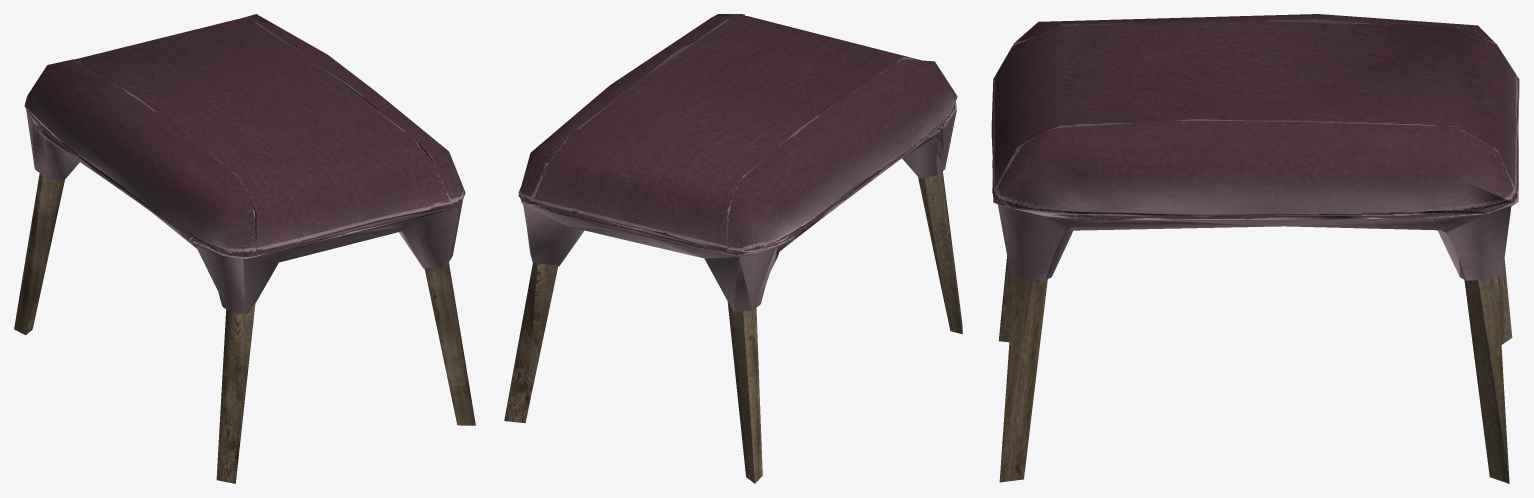
Rendered from Chair0005.obj.
The picture shows the model from 3 angles, left to right: view 1: azimuth 30°, elevation 25°; view 2: azimuth 150°, elevation 25°; view 3: azimuth 270°, elevation 25°; orthographic projection. The views are drawn at different scales.
Bounding box in the file's own units: 0.405 × 0.417 × 0.586.
Materials: 1 (1 with a texture image).
